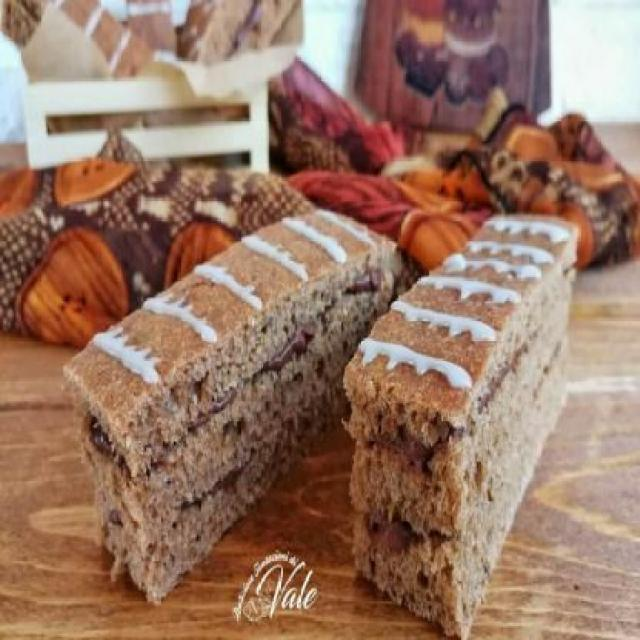Merendine: (70, 207, 396, 598)
Merendine packaged: (347, 206, 582, 614)
